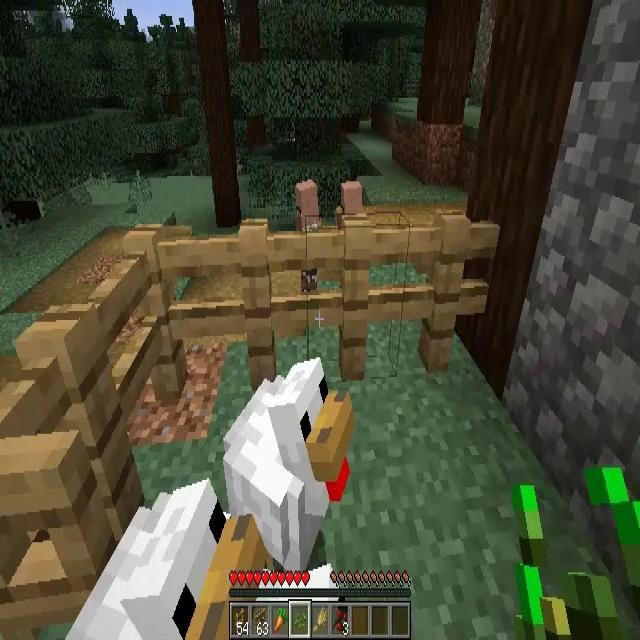duck: (72, 478, 338, 640), (230, 353, 352, 570)
people: (296, 182, 320, 292)
